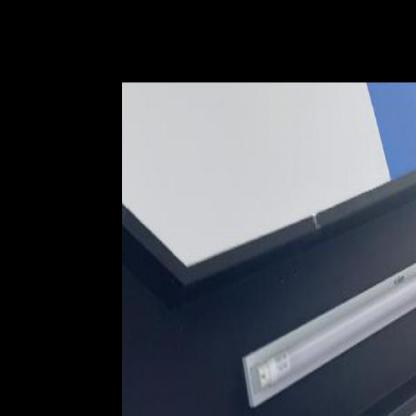light_off: (231, 194, 415, 415)
